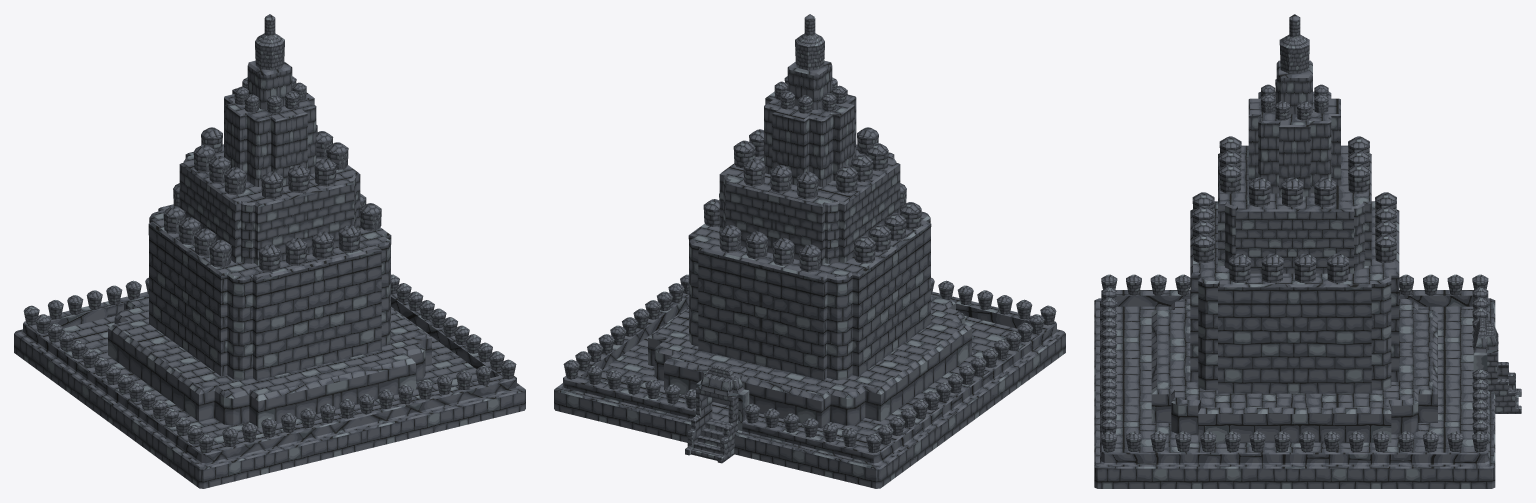
The model's file is Candi kotak 1.fbx.
The picture shows the model from 3 angles, left to right: view 1: azimuth 30°, elevation 25°; view 2: azimuth 150°, elevation 25°; view 3: azimuth 270°, elevation 25°; orthographic projection. The views are drawn at different scales.
Parts seen in each view (by area): view 1: Cube.002, Cylinder.013, Cylinder.022, Cylinder.016, Cylinder.014, Cylinder.018, Cylinder.017, Cylinder.015, Cylinder.020, Cylinder.019, Cylinder.021; view 2: Cube.002, Cylinder.013, Cylinder.016, Cylinder.014, Cylinder.018, Cylinder.017, Cylinder.015, Cylinder.023, Cylinder.022, Cylinder.020, Cylinder.019, Cylinder.021; view 3: Cube.002, Cylinder.013, Cylinder.014, Cylinder.017, Cylinder.016, Cylinder.022, Cylinder.018, Cylinder.020, Cylinder.023, Cylinder.021, Cylinder.015, Cylinder.019.
Boxes of the visible parts, x1,y1,x2,y2 form: Cube.002: (14, 60, 525, 488); Cylinder.013: (23, 274, 516, 452); Cylinder.022: (222, 365, 491, 446); Cylinder.016: (163, 193, 381, 267); Cylinder.014: (173, 183, 360, 272); Cylinder.018: (193, 125, 348, 195); Cylinder.017: (201, 127, 336, 199); Cylinder.015: (48, 277, 148, 319); Cylinder.020: (255, 14, 284, 70); Cylinder.019: (234, 76, 306, 112); Cylinder.021: (242, 77, 299, 113); Cube.002: (554, 60, 1065, 488); Cylinder.013: (563, 274, 1056, 452); Cylinder.016: (703, 193, 921, 263); Cylinder.014: (719, 183, 906, 272); Cylinder.018: (733, 129, 888, 193); Cylinder.017: (743, 127, 878, 199); Cylinder.015: (744, 403, 857, 446); Cylinder.023: (586, 365, 695, 408); Cylinder.022: (931, 277, 1032, 319); Cylinder.020: (795, 14, 824, 70); Cylinder.019: (774, 76, 846, 111); Cylinder.021: (780, 77, 837, 113); Cube.002: (1094, 60, 1521, 488); Cylinder.013: (1101, 274, 1488, 451); Cylinder.014: (1192, 192, 1396, 262); Cylinder.017: (1219, 136, 1369, 193); Cylinder.016: (1229, 253, 1348, 282); Cylinder.022: (1101, 287, 1117, 433); Cylinder.018: (1249, 177, 1335, 206); Cylinder.020: (1279, 14, 1309, 73); Cylinder.023: (1472, 369, 1488, 433); Cylinder.021: (1261, 84, 1328, 113); Cylinder.015: (1472, 287, 1488, 349); Cylinder.019: (1275, 79, 1311, 120).
Bounding box in the file's own units: 290 × 311 × 309.
3 materials, 3 textured.
